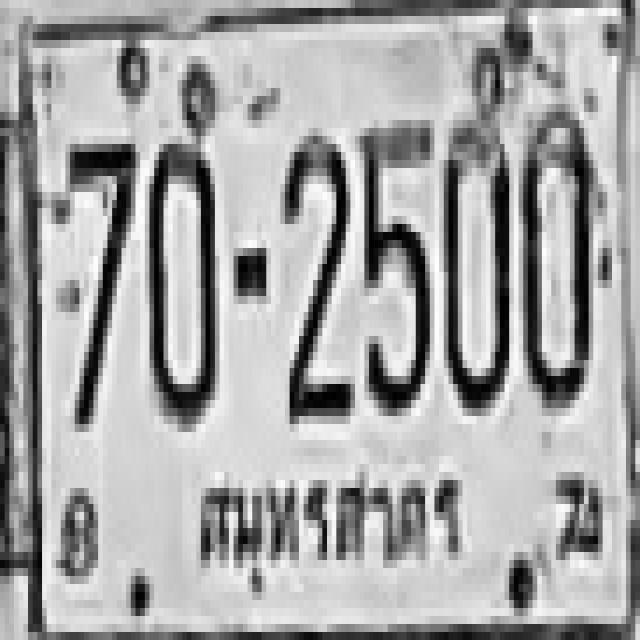0: (519, 100, 593, 404), (439, 112, 509, 408), (145, 140, 215, 420)
2: (280, 128, 350, 416)
5: (358, 116, 428, 412)
7: (66, 136, 136, 424)
SamutSakhon: (184, 466, 472, 589)
